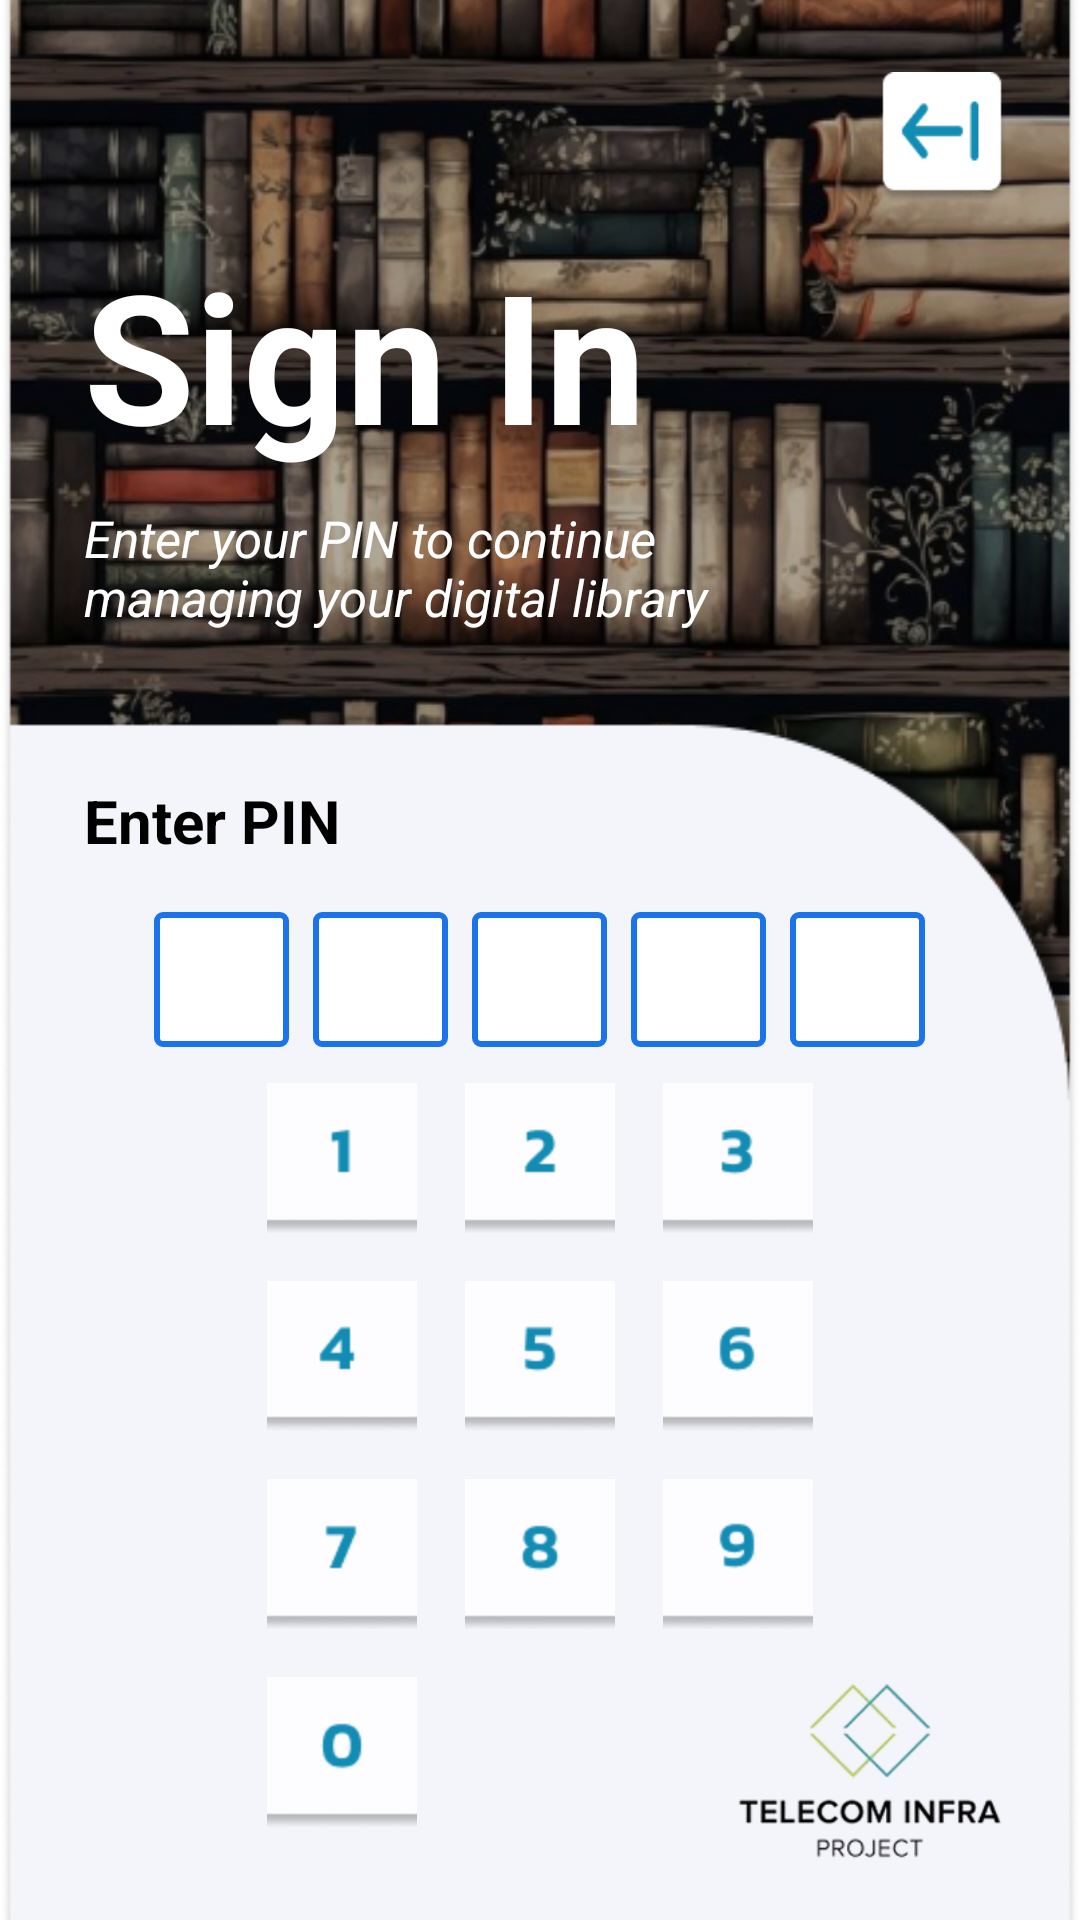

Named icons in this screenshot (1080w x 1920h) and their centers, (x,y):
Back Button: (942,138)
